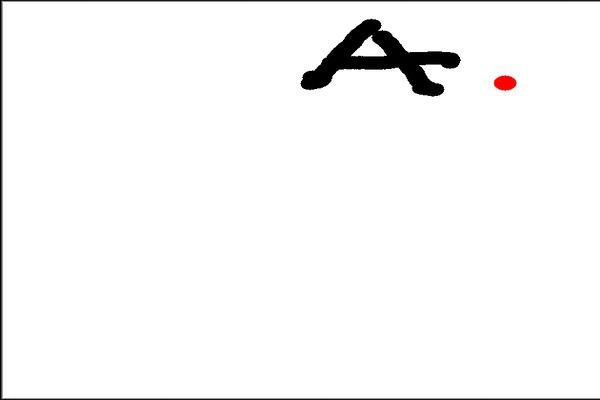A: (284, 12, 470, 109)
